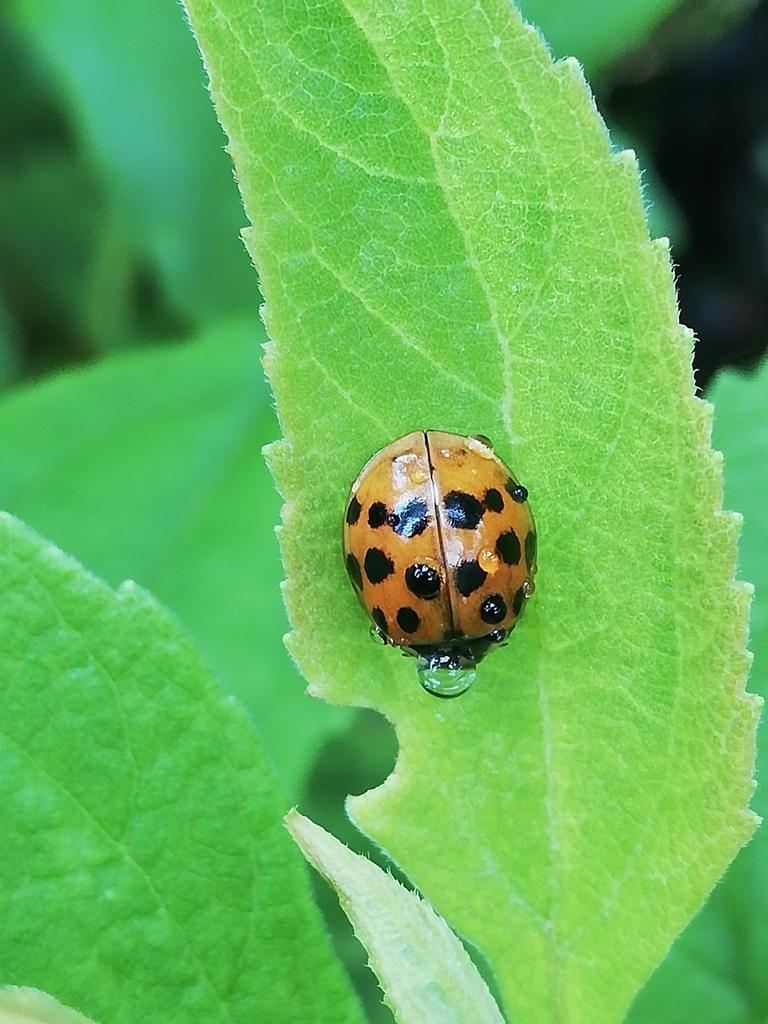ladybug: (341, 426, 549, 701)
